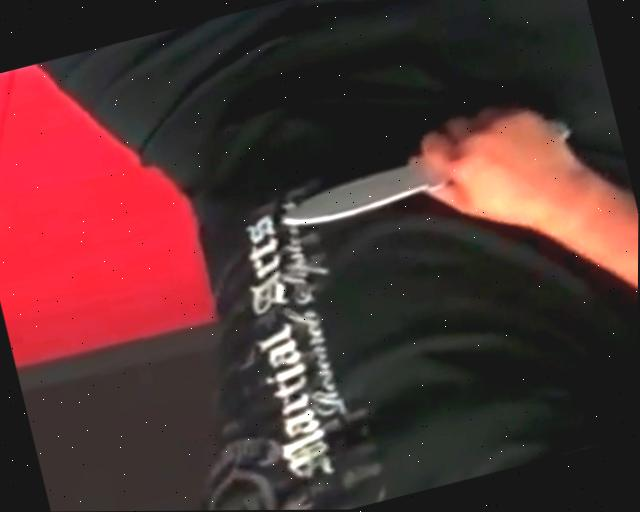pocket-knife: (264, 102, 592, 254)
